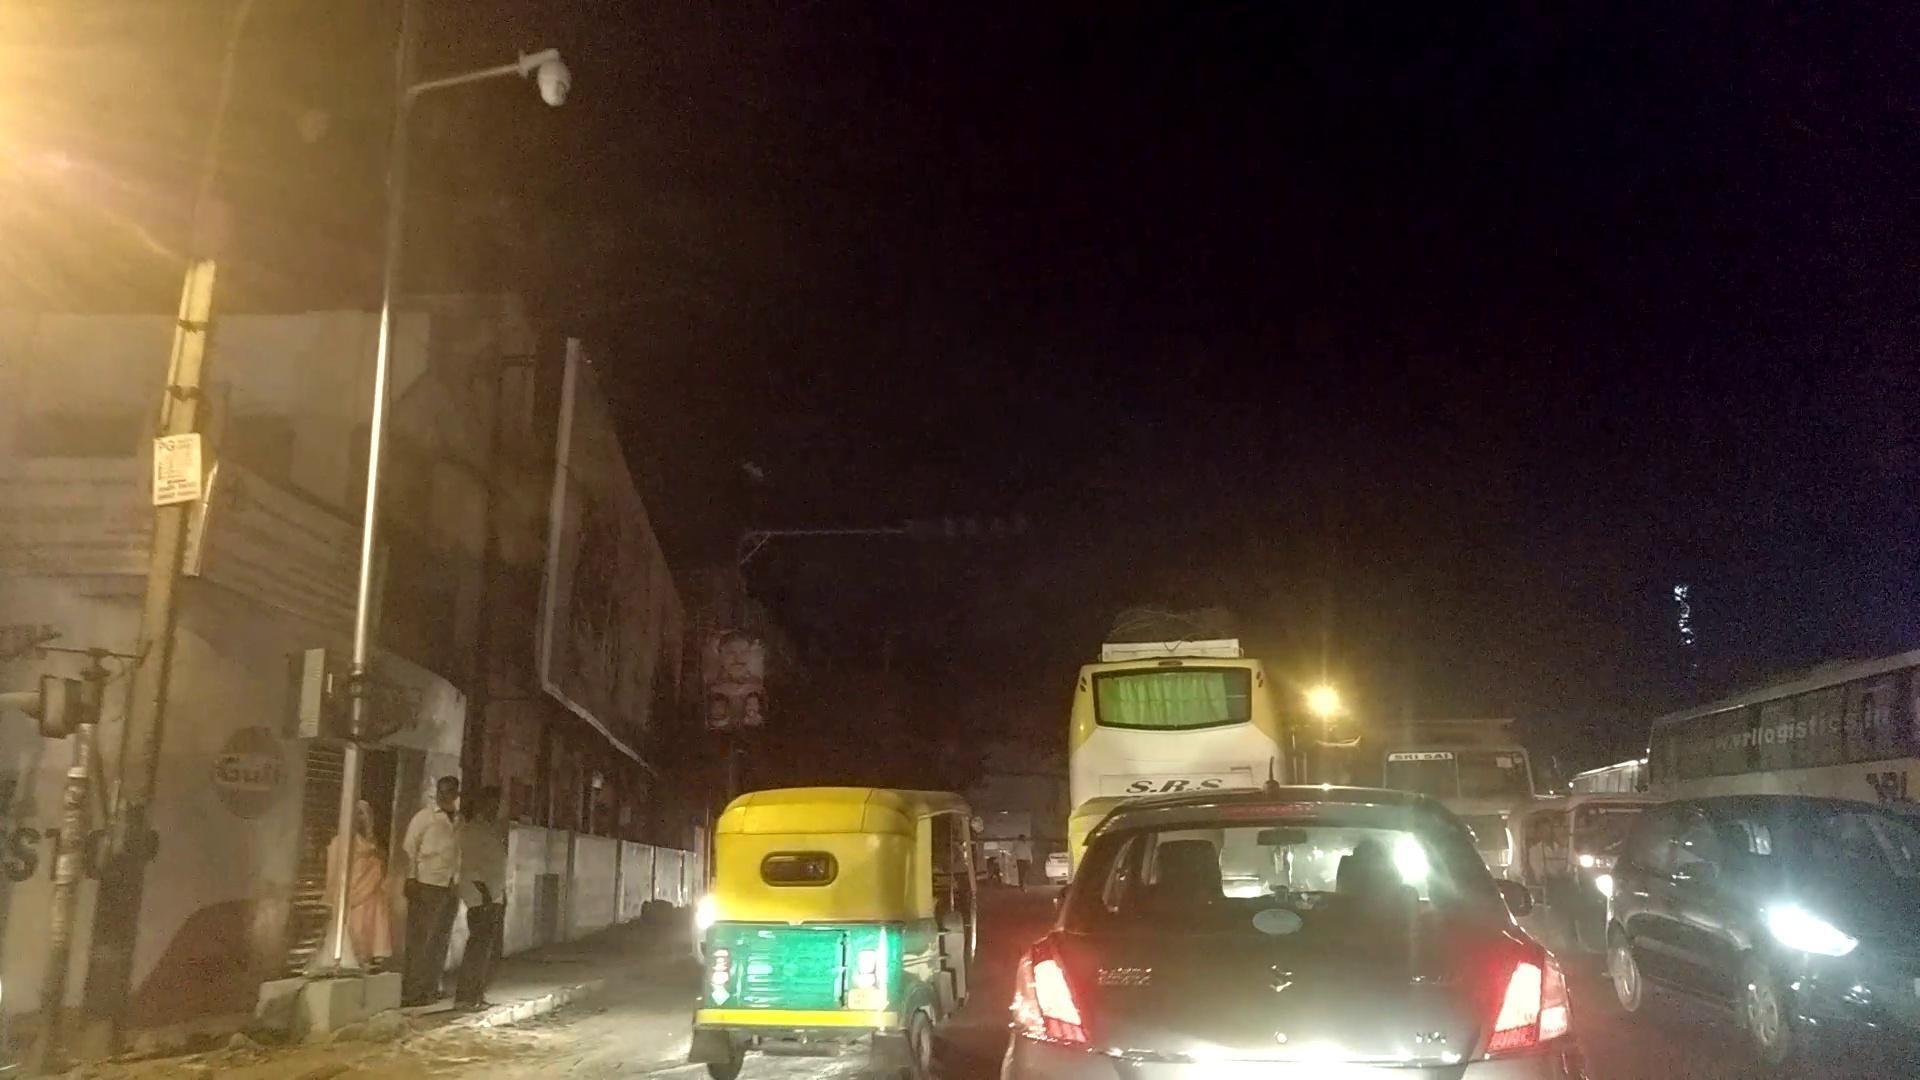on: (0, 0, 368, 738)
